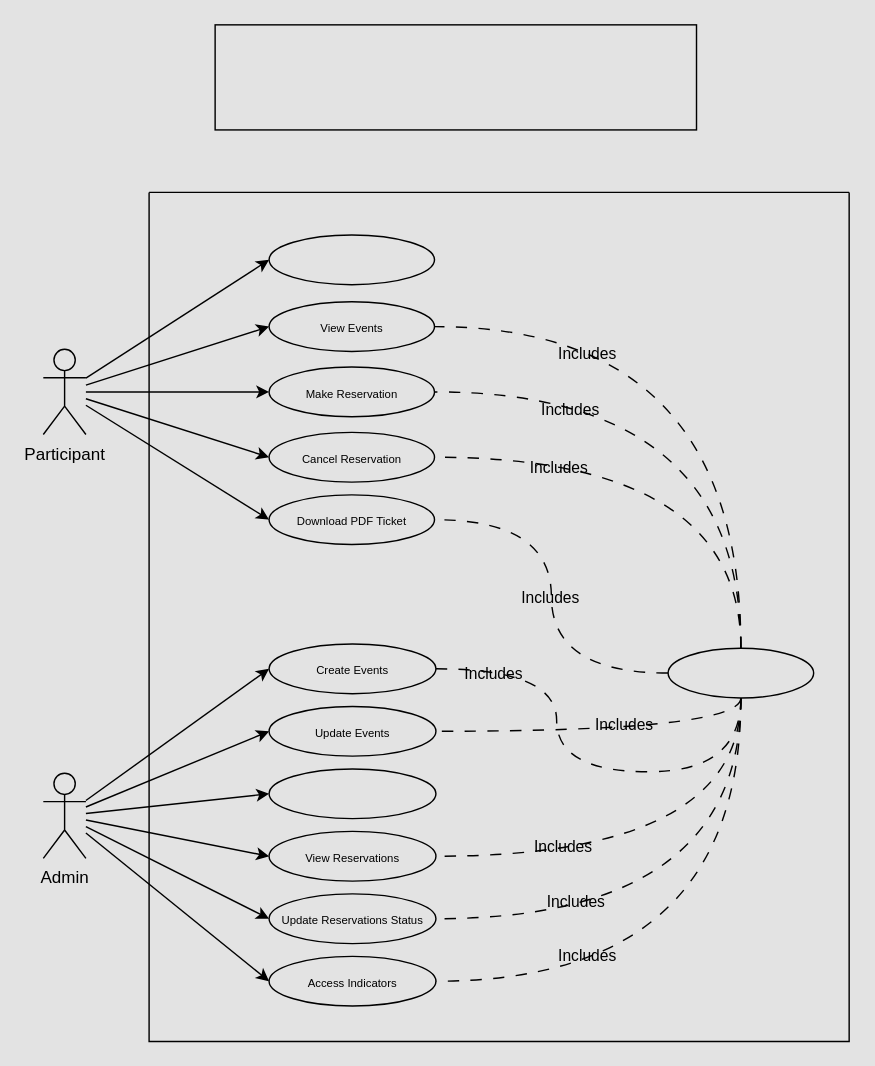
Some shapes in this 875 by 1066 pixel diagram are drawn without their labels. Each missing label, with the centre of its shape:
"Authentication" belongs at point 740,672.
"Delete Events" belongs at point 352,793.
"EventFlow Use Case Diagram" belongs at point 455,76.
"Register" belongs at point 351,259.
